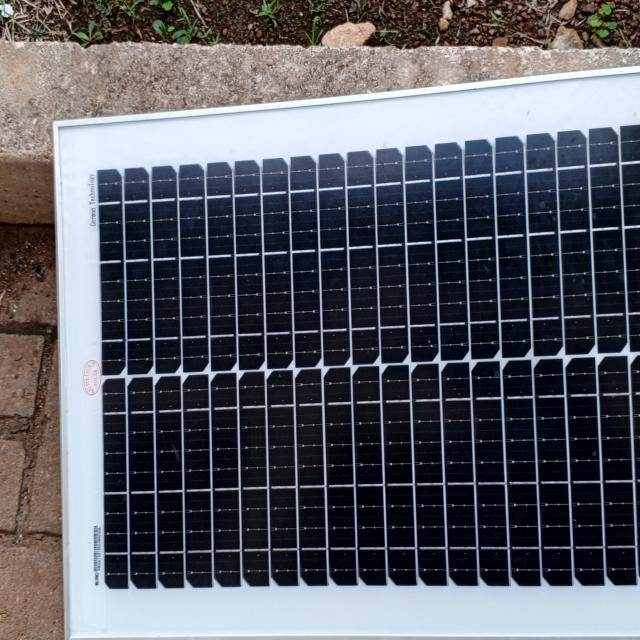Clean: (82, 150, 640, 594)
